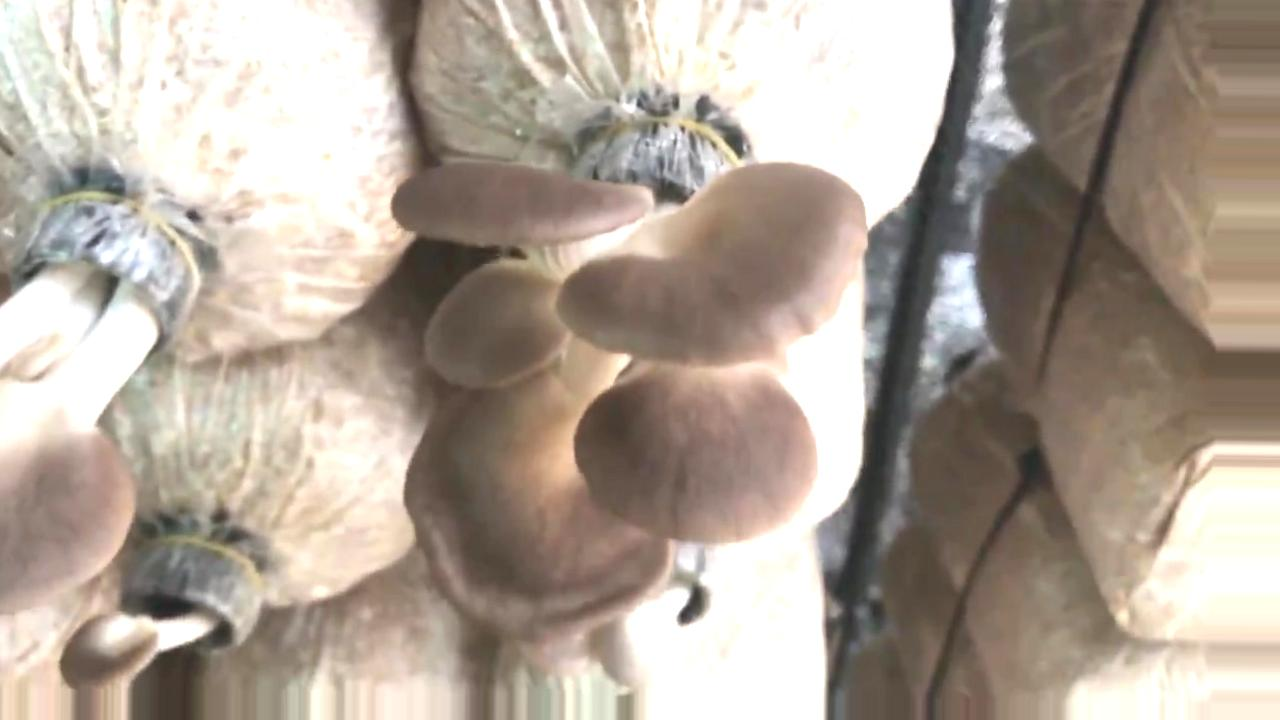nam: (398, 125, 862, 648), (1, 188, 229, 607), (61, 532, 263, 687)
